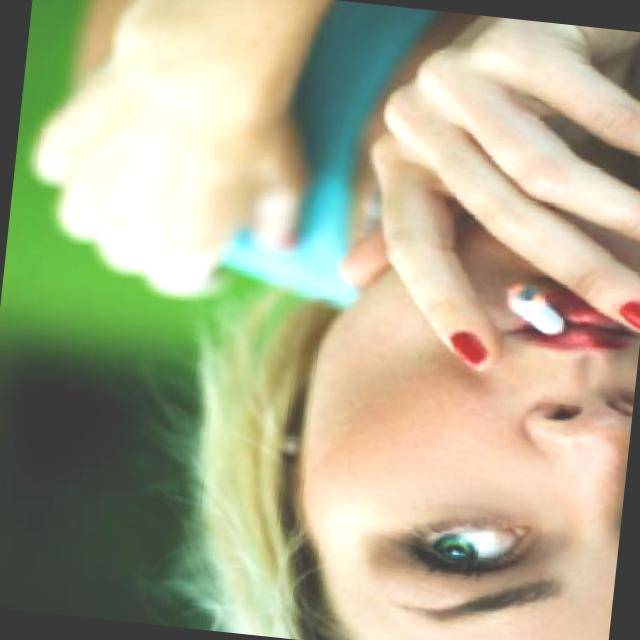cigarette: (472, 258, 585, 353)
